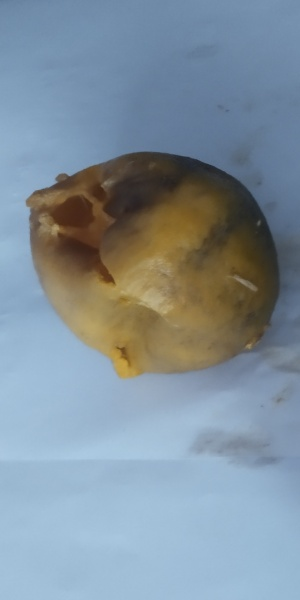BAD: (26, 152, 281, 378)
